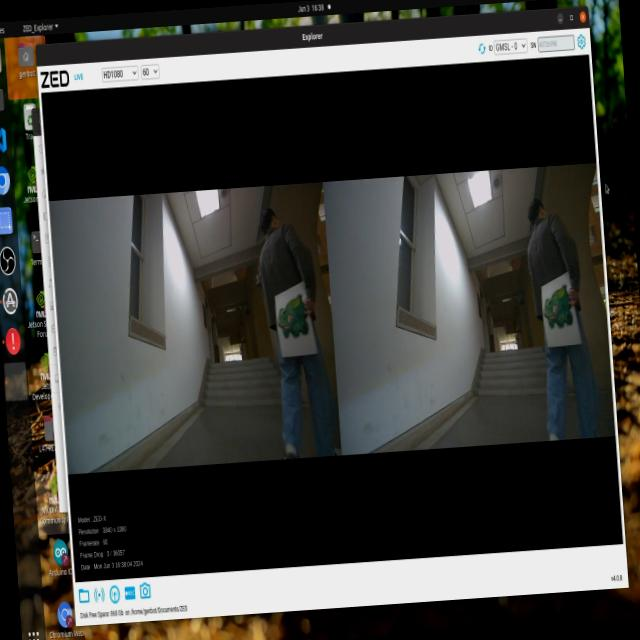green: (269, 286, 313, 351), (539, 278, 579, 334)
